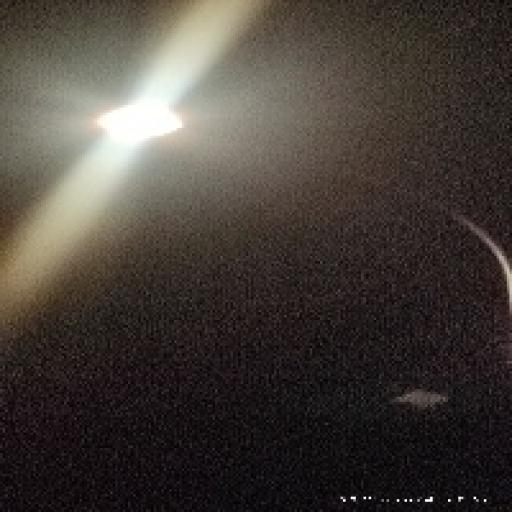Working: (93, 96, 187, 151)
